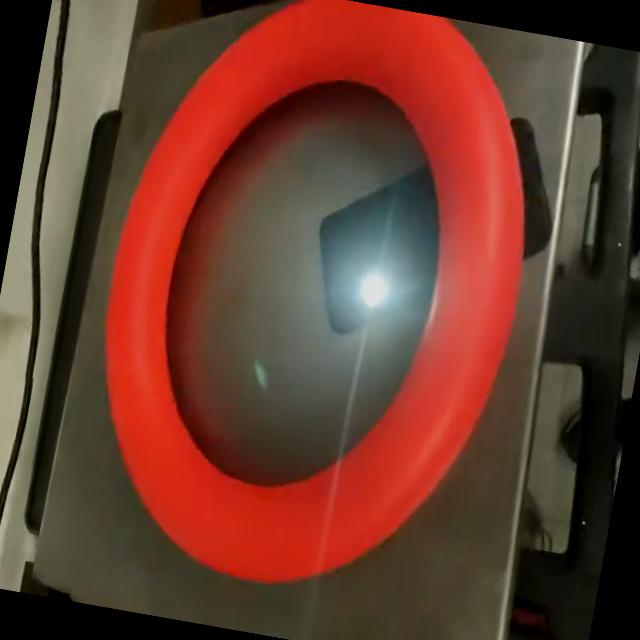note: (56, 0, 565, 625)
